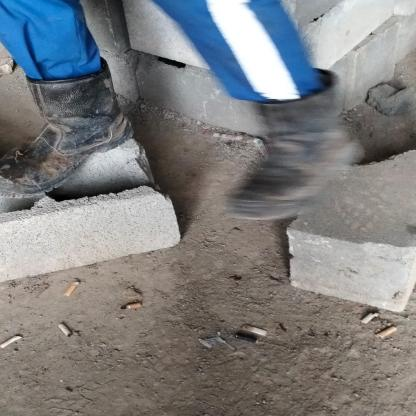bota: (0, 65, 137, 195)
